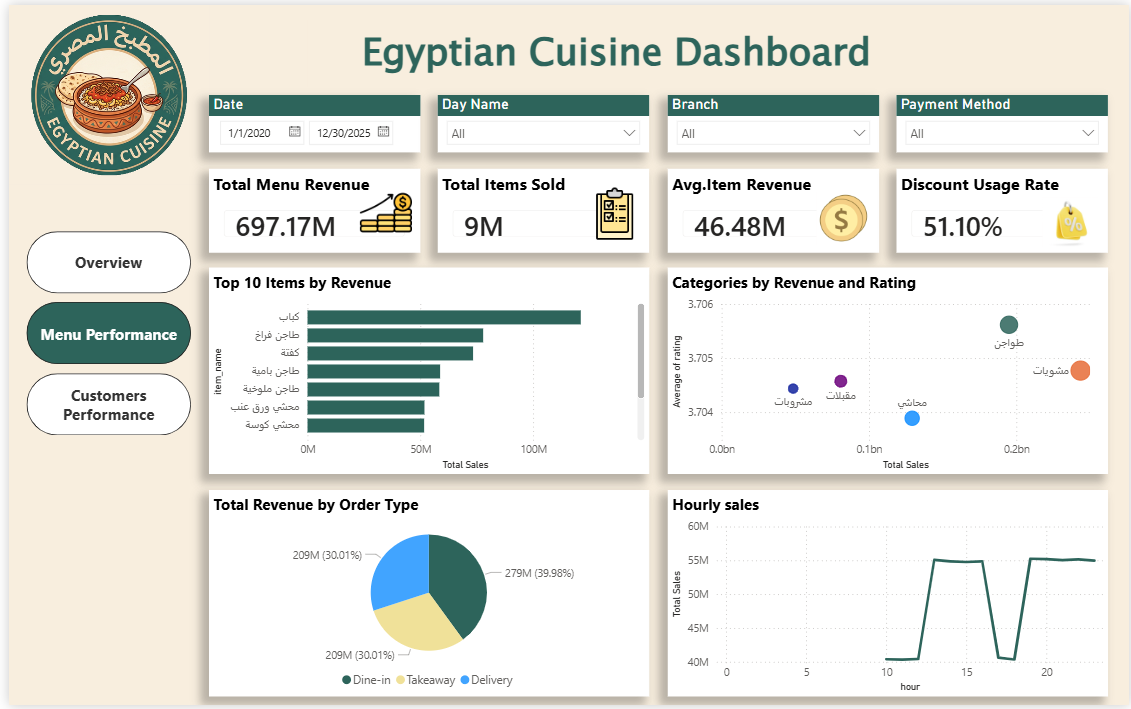

Layout of this report page (visuals, bound fields, positions):
{"tool":"powerbi","page":{"name":"Menu Performance","canvas":[1280,800],"ordinal":1},"visuals":[{"type":"image","box":[0,0,229.2,204.5],"z":0},{"type":"pageNavigator","box":[20,258.6,188.6,235.7],"z":1000},{"type":"textbox","box":[341.4,17.1,705.7,75.7],"z":2000},{"type":"slicer","title":"Date","fields":{"Values":["restaurant.order_date"]},"box":[228.6,102.9,241.4,65.7],"z":3000},{"type":"slicer","title":"Branch","fields":{"Values":["restaurant.branch"]},"box":[752.9,102.9,241.4,65.7],"z":4000},{"type":"slicer","title":"Day Name","fields":{"Values":["restaurant.day_name"]},"box":[490,102.9,241.4,65.7],"z":5000},{"type":"slicer","title":"Payment Method","fields":{"Values":["restaurant.payment_method"]},"box":[1014.3,102.9,241.4,65.7],"z":6000},{"type":"cardVisual","fields":{"Data":["Measure.Total Revenue"]},"box":[228.6,186.7,241.4,95.7],"z":7000,"group":"g2"},{"type":"cardVisual","fields":{"Data":["Measure.Avg.Item Revenue"]},"box":[752.9,186.7,241.4,95.7],"z":7000},{"type":"cardVisual","fields":{"Data":["Sum(restaurant.quantity)"]},"box":[490,186.7,241.4,95.7],"z":8000,"group":"g1"},{"type":"cardVisual","fields":{"Data":["Measure.Discount Usage %"]},"box":[1014.3,186.7,241.4,95.7],"z":8000},{"type":"group","id":"g1","title":"Group 1","box":[490,186.7,241.4,100],"z":9000},{"type":"image","box":[922.9,210,61.4,67.1],"z":10000},{"type":"image","box":[661.4,189.6,61.4,97.1],"z":10001,"group":"g1"},{"type":"image","box":[400,205.3,61.4,62.9],"z":10001,"group":"g2"},{"type":"group","id":"g2","title":"Group 2","box":[228.6,186.7,241.4,95.7],"z":11000},{"type":"image","box":[1177.1,220,71.4,57.1],"z":12000},{"type":"barChart","fields":{"Y":["Measure.Total Sales"],"Category":["restaurant.item_name"]},"box":[228.6,300.5,502.9,235.7],"z":13000},{"type":"scatterChart","fields":{"X":["Measure.Total Sales"],"Y":["Avg(restaurant.rating)"],"Series":["restaurant.category"],"Size":["Measure.Total Sales"]},"box":[752.9,300.5,502.9,235.7],"z":14000},{"type":"pieChart","fields":{"Y":["Measure.Total Revenue"],"Category":["restaurant.order_type"]},"box":[228.6,554.3,502.9,235.7],"z":15000},{"type":"lineChart","fields":{"Y":["Measure.Total Sales"],"Category":["restaurant.hour"]},"box":[752.9,554.3,502.9,235.7],"z":16000}]}

Visuals, with their boxes in screenshot pixels (x1, y1, x2, y2), scaled from the page's 1280x800 canvas onto the 1131x709 screenshot:
image: [left=0, top=0, right=203, bottom=181]
pageNavigator: [left=18, top=229, right=184, bottom=438]
textbox: [left=302, top=15, right=925, bottom=82]
"Date" slicer: [left=202, top=91, right=415, bottom=149]
"Branch" slicer: [left=665, top=91, right=879, bottom=149]
"Day Name" slicer: [left=433, top=91, right=646, bottom=149]
"Payment Method" slicer: [left=896, top=91, right=1110, bottom=149]
cardVisual - Measure.Total Revenue: [left=202, top=165, right=415, bottom=250]
cardVisual - Measure.Avg.Item Revenue: [left=665, top=165, right=879, bottom=250]
cardVisual - Sum(restaurant.quantity): [left=433, top=165, right=646, bottom=250]
cardVisual - Measure.Discount Usage %: [left=896, top=165, right=1110, bottom=250]
"Group 1" group: [left=433, top=165, right=646, bottom=254]
image: [left=815, top=186, right=870, bottom=246]
image: [left=584, top=168, right=639, bottom=254]
image: [left=353, top=182, right=408, bottom=238]
"Group 2" group: [left=202, top=165, right=415, bottom=250]
image: [left=1040, top=195, right=1103, bottom=246]
barChart - Measure.Total Sales x restaurant.item_name: [left=202, top=266, right=646, bottom=475]
scatterChart - Measure.Total Sales x Avg(restaurant.rating): [left=665, top=266, right=1110, bottom=475]
pieChart - Measure.Total Revenue x restaurant.order_type: [left=202, top=491, right=646, bottom=700]
lineChart - Measure.Total Sales x restaurant.hour: [left=665, top=491, right=1110, bottom=700]
